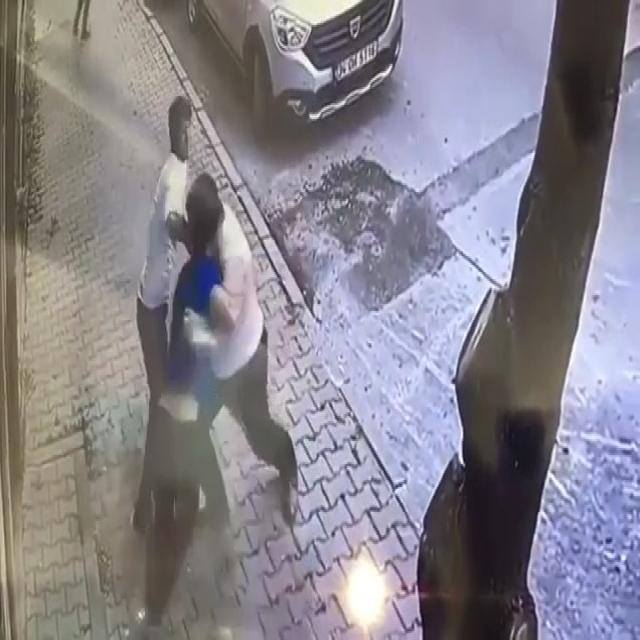fight: (73, 35, 320, 640)
